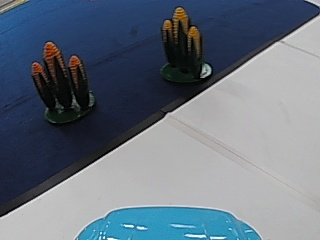corn: (29, 39, 97, 124), (159, 4, 210, 82)
